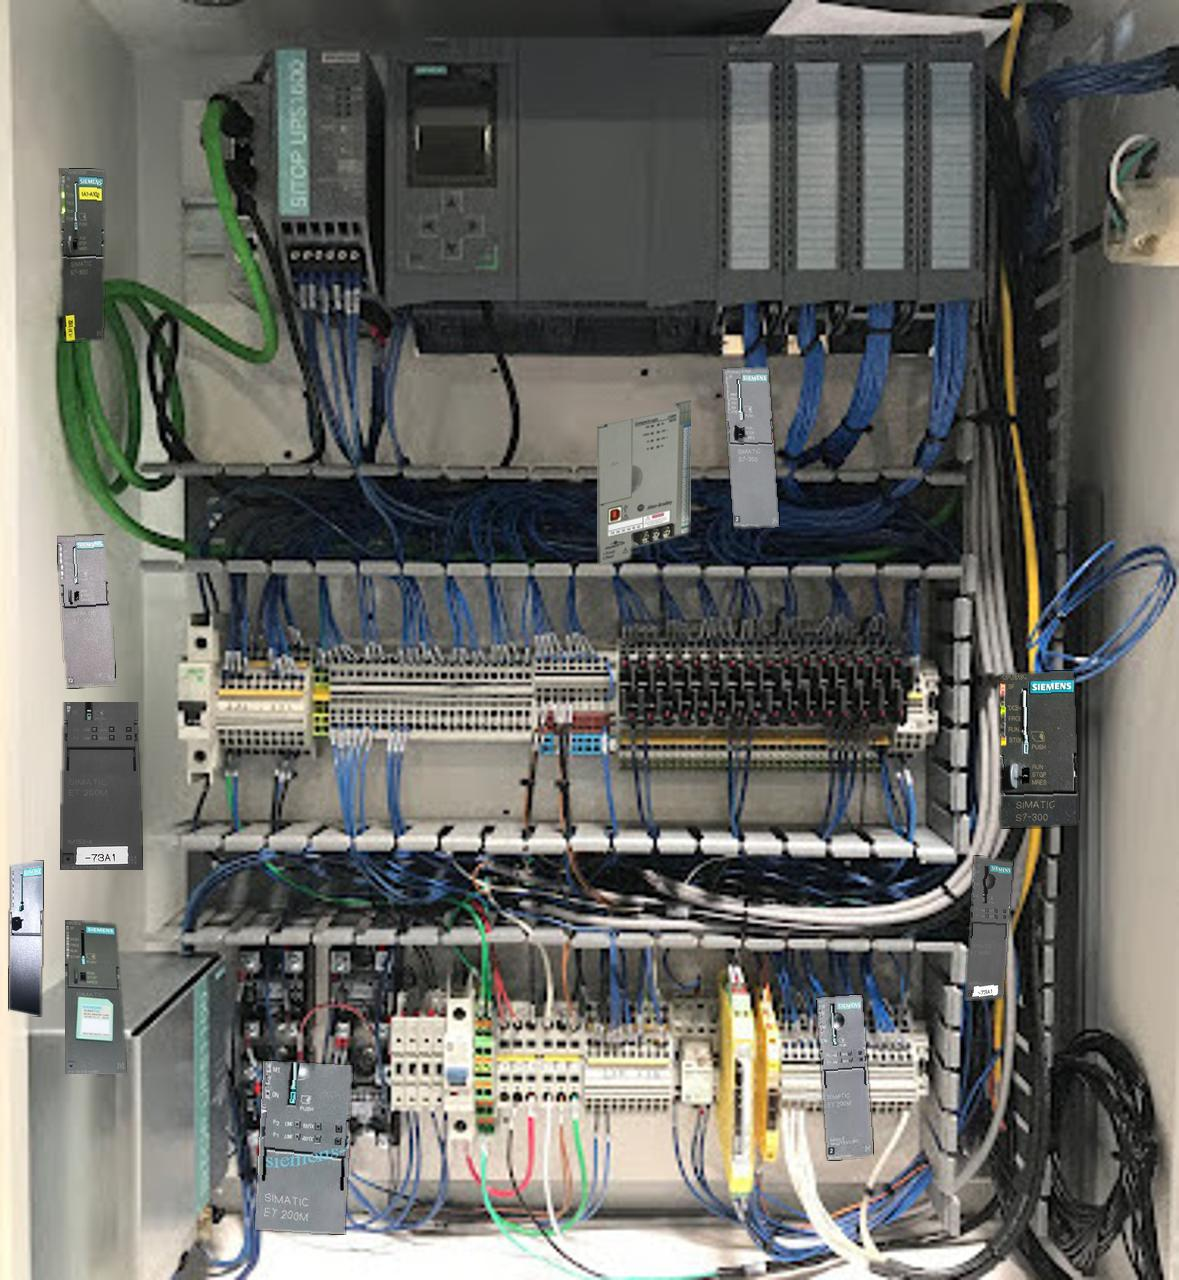AllenBradley: (597, 398, 690, 565)
Siemens: (998, 671, 1077, 827), (65, 920, 126, 1073), (723, 368, 779, 527), (57, 535, 115, 687), (60, 168, 104, 341), (9, 861, 42, 1015)
